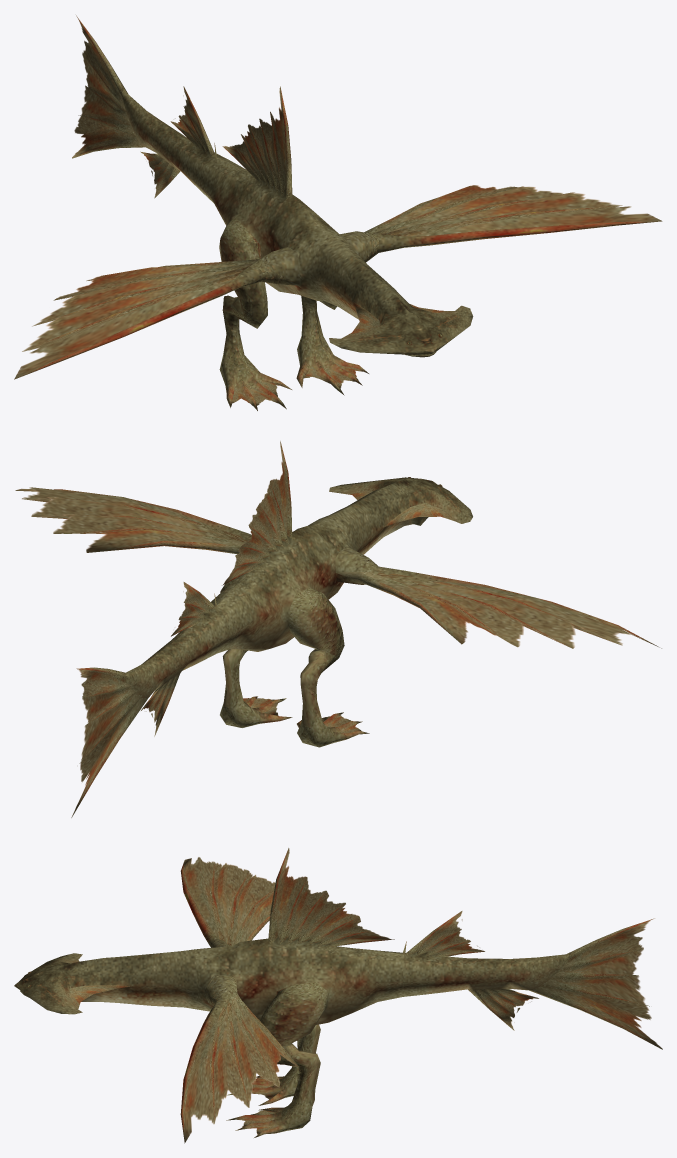
The model's file is cephadrome.glb.
3 views of the same model, one above another, from view 1: azimuth 30°, elevation 25°; view 2: azimuth 150°, elevation 25°; view 3: azimuth 270°, elevation 25° (orthographic). The views are drawn at different scales.
Parts seen in each view (by area): view 1: em08-0001-4, em08-0001-0, em08-0001-1, em08-0001-11, em08-0001-14, em08-0001-10, em08-0001-5, em08-0001-9, em08-0001-7, em08-0001-6; view 2: em08-0001-4, em08-0001-1, em08-0001-0, em08-0001-11, em08-0001-14, em08-0001-10, em08-0001-5, em08-0001-9, em08-0001-7; view 3: em08-0001-4, em08-0001-1, em08-0001-0, em08-0001-11, em08-0001-10, em08-0001-14, em08-0001-5, em08-0001-9, em08-0001-7, em08-0001-6.
Part boxes in pixels (x1=…): em08-0001-4: x1=14, y1=86, x2=662, y2=379; em08-0001-0: x1=16, y1=89, x2=661, y2=378; em08-0001-1: x1=145, y1=119, x2=350, y2=300; em08-0001-11: x1=219, y1=218, x2=368, y2=410; em08-0001-14: x1=232, y1=278, x2=473, y2=405; em08-0001-10: x1=72, y1=21, x2=136, y2=158; em08-0001-5: x1=235, y1=87, x2=286, y2=188; em08-0001-9: x1=73, y1=15, x2=145, y2=158; em08-0001-7: x1=122, y1=92, x2=161, y2=152; em08-0001-6: x1=249, y1=86, x2=292, y2=198; em08-0001-4: x1=15, y1=487, x2=654, y2=736; em08-0001-1: x1=150, y1=516, x2=354, y2=687; em08-0001-0: x1=16, y1=483, x2=661, y2=732; em08-0001-11: x1=220, y1=579, x2=369, y2=747; em08-0001-14: x1=243, y1=477, x2=472, y2=733; em08-0001-10: x1=71, y1=669, x2=139, y2=817; em08-0001-5: x1=234, y1=441, x2=287, y2=566; em08-0001-9: x1=73, y1=667, x2=148, y2=814; em08-0001-7: x1=126, y1=656, x2=166, y2=697; em08-0001-4: x1=118, y1=857, x2=538, y2=1143; em08-0001-1: x1=195, y1=937, x2=511, y2=1024; em08-0001-0: x1=180, y1=861, x2=537, y2=1141; em08-0001-11: x1=226, y1=982, x2=327, y2=1137; em08-0001-10: x1=541, y1=921, x2=662, y2=1049; em08-0001-14: x1=14, y1=953, x2=281, y2=1134; em08-0001-5: x1=276, y1=848, x2=369, y2=941; em08-0001-9: x1=529, y1=918, x2=660, y2=1048; em08-0001-7: x1=511, y1=954, x2=566, y2=990; em08-0001-6: x1=268, y1=849, x2=343, y2=942.
Bounding box in the file's own units: 1446 × 621 × 1398.
Materials: 4 (4 with a texture image).
